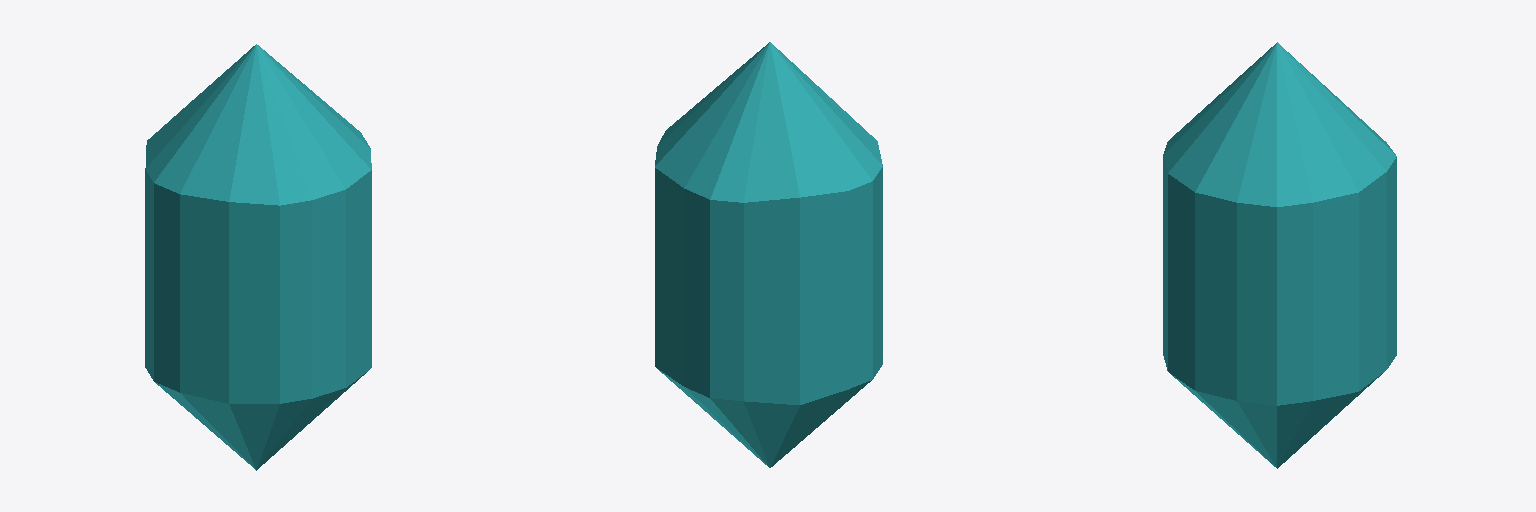
The picture shows the model from 3 angles: view 1: azimuth 30°, elevation 25°; view 2: azimuth 150°, elevation 25°; view 3: azimuth 270°, elevation 25°; orthographic projection.
Parts seen in each view (by area): view 1: 立方体; view 2: 立方体; view 3: 立方体.
Part boxes in pixels (x1,y1,x2,y2): 立方体: (145, 44, 371, 470); 立方体: (655, 42, 882, 467); 立方体: (1163, 42, 1396, 468).
Size of the model in its own units: 2.19 by 4.3 by 2.14.
1 materials, 1 textured.